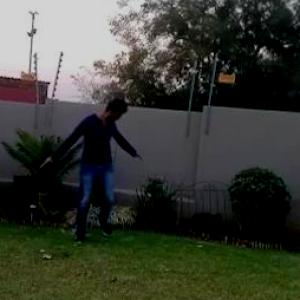land: (45, 83, 169, 262)
